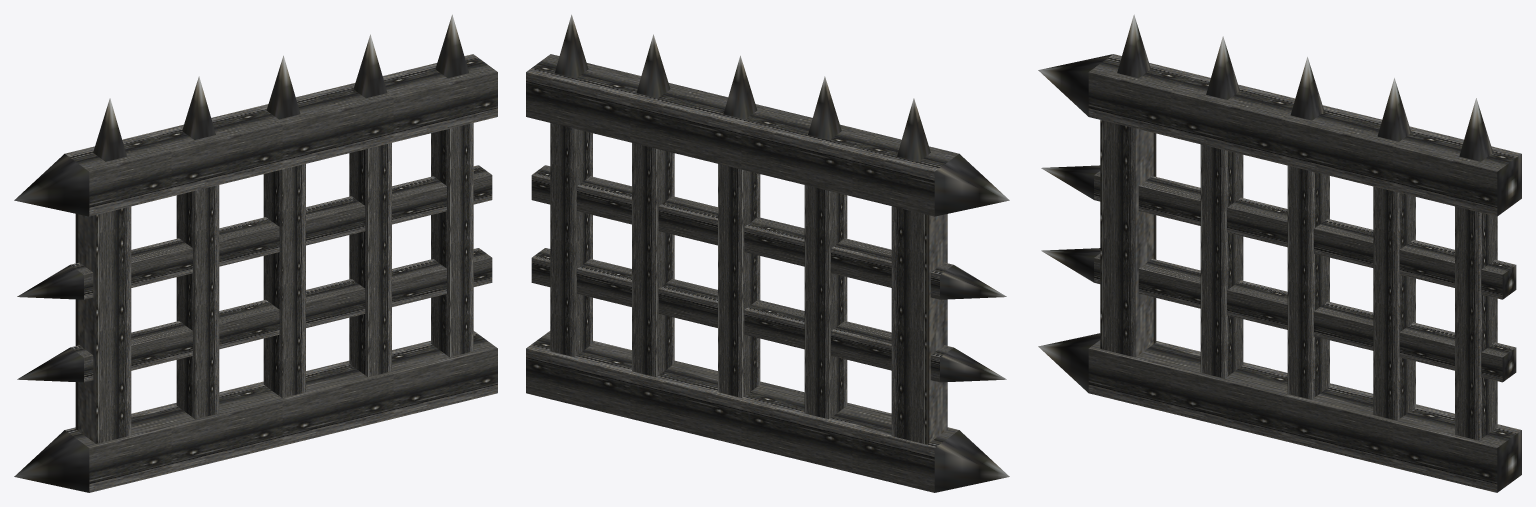
3 views of the same model, side by side, from view 1: azimuth 30°, elevation 25°; view 2: azimuth 150°, elevation 25°; view 3: azimuth 330°, elevation 25° (orthographic).
Visible parts, largest first — view 1: a87; view 2: a87; view 3: a87.
Part boxes in pixels (x1,y1,x2,y2): a87: (14,14,497,492); a87: (526,14,1009,492); a87: (1038,14,1521,492).
Bounding box in the file's own units: 1018 × 781 × 92.52.
